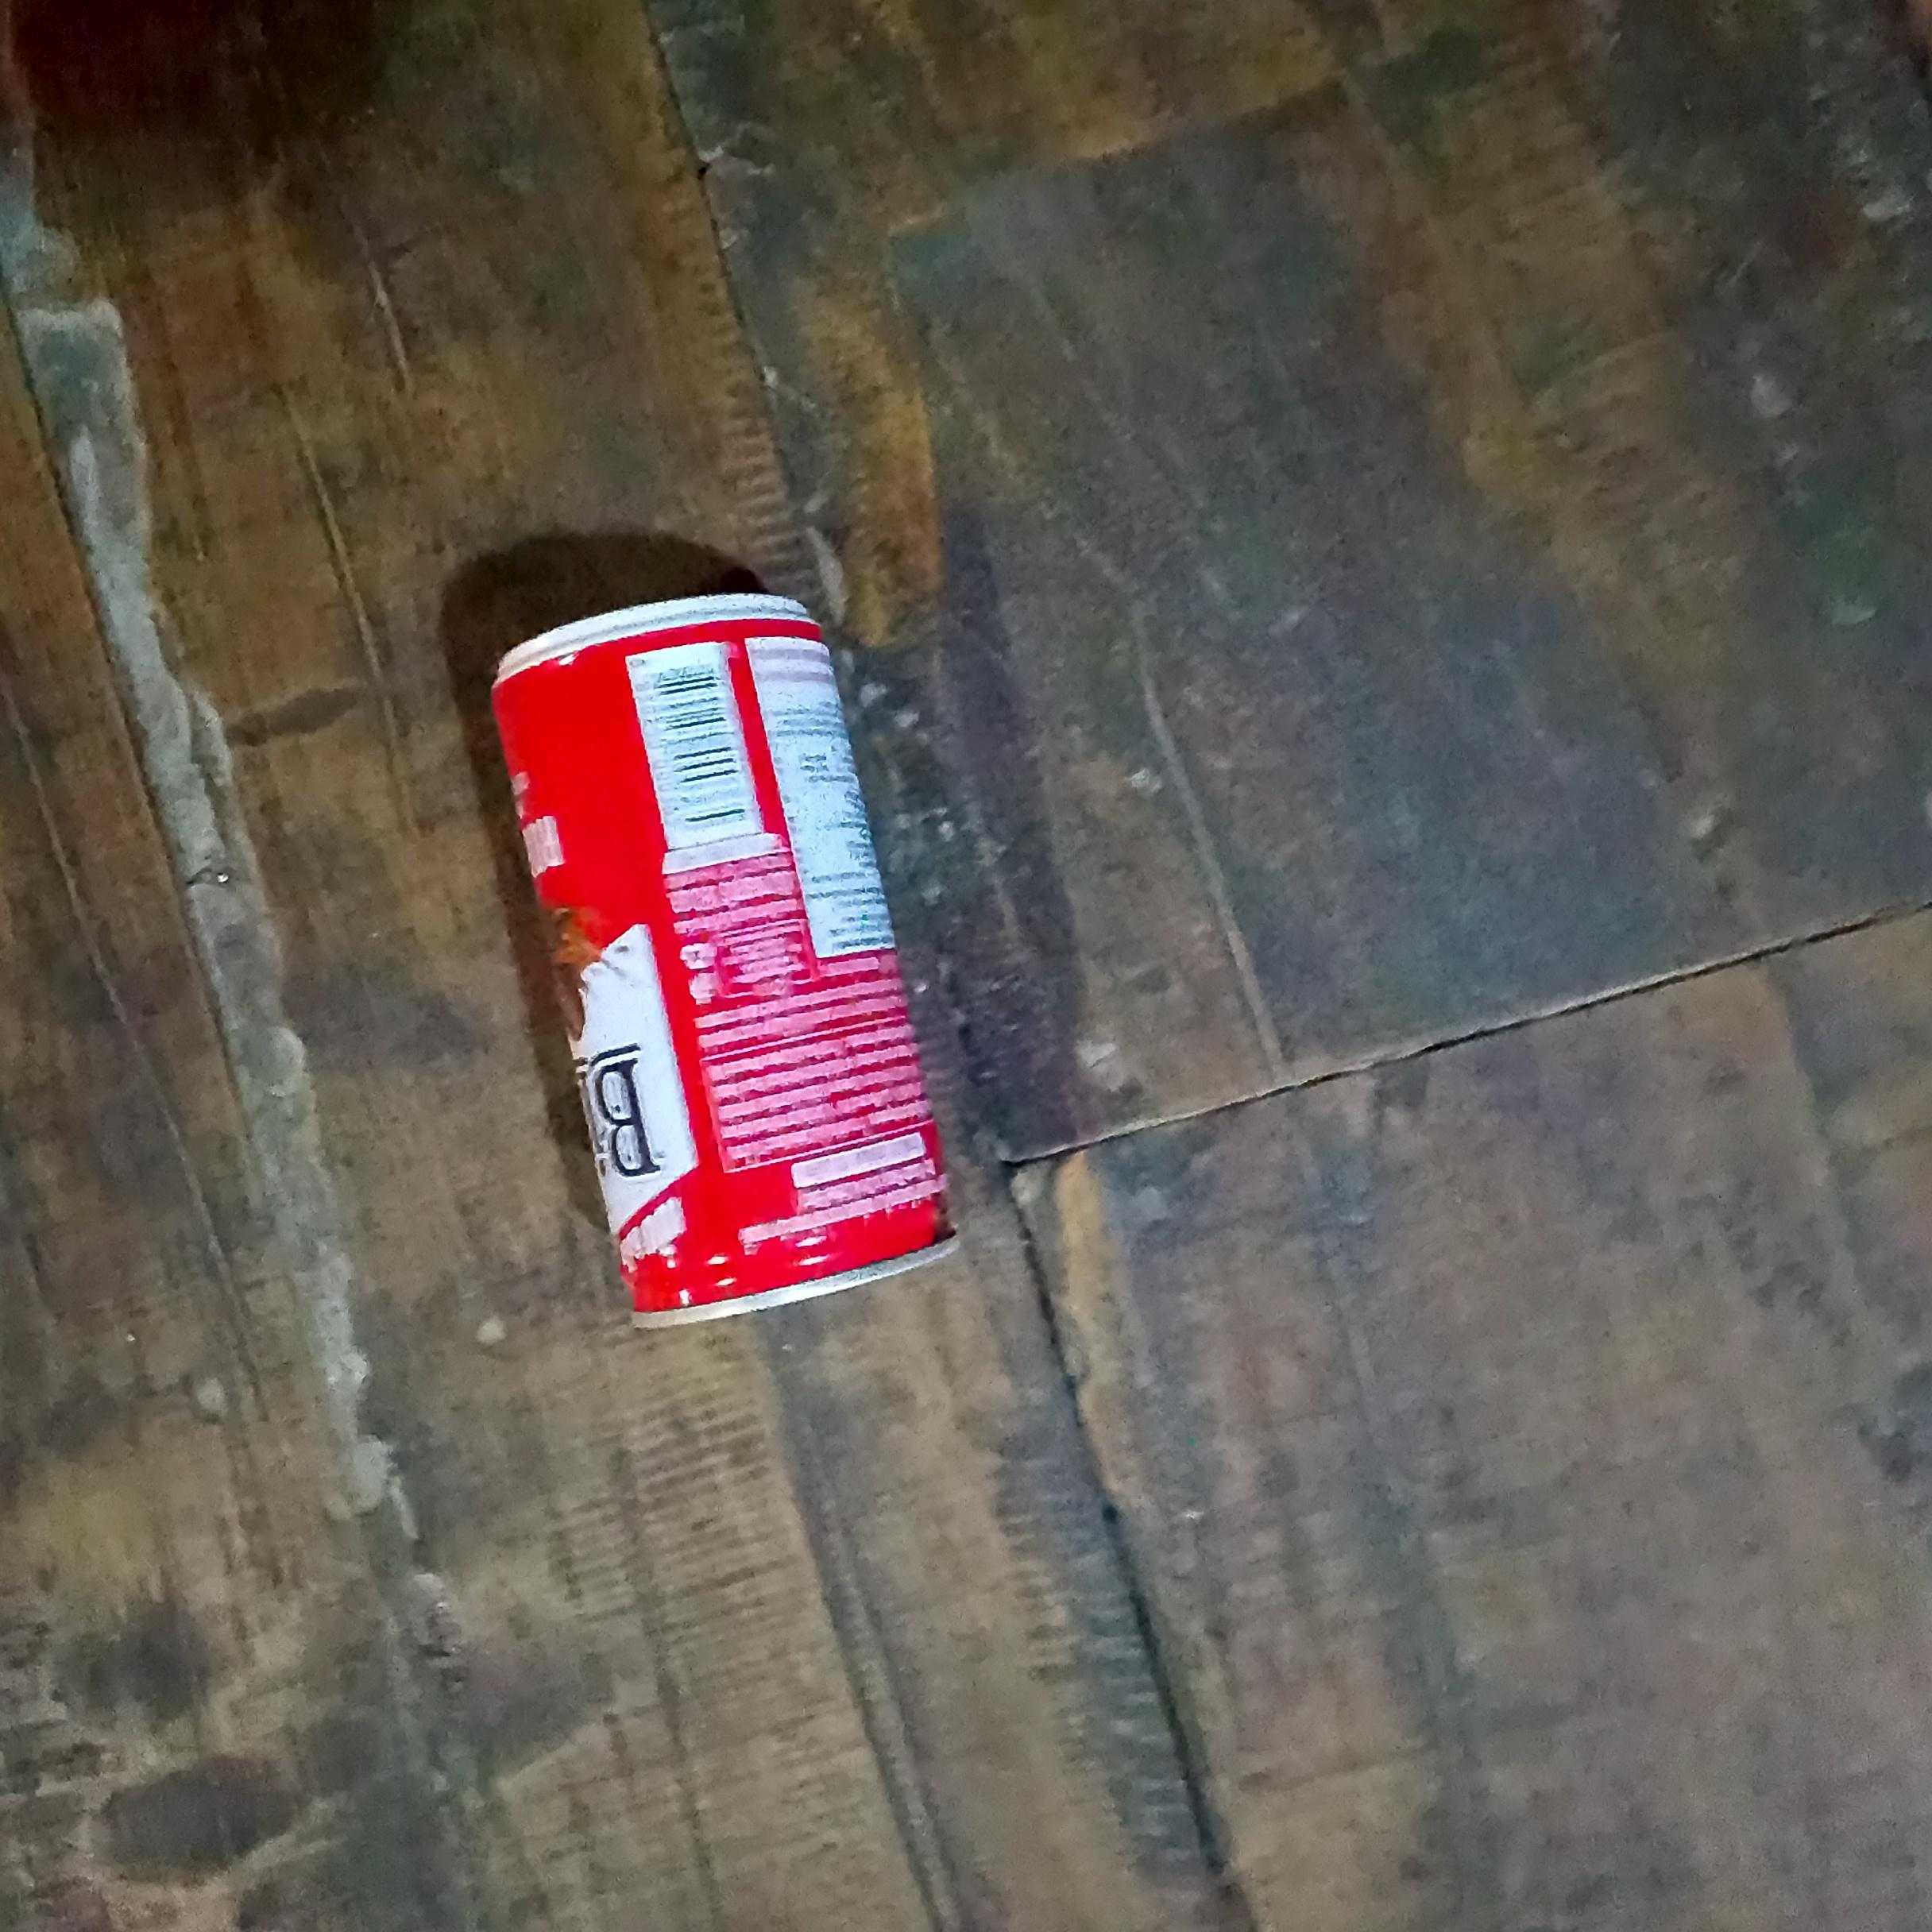can: (494, 596, 950, 1325)
